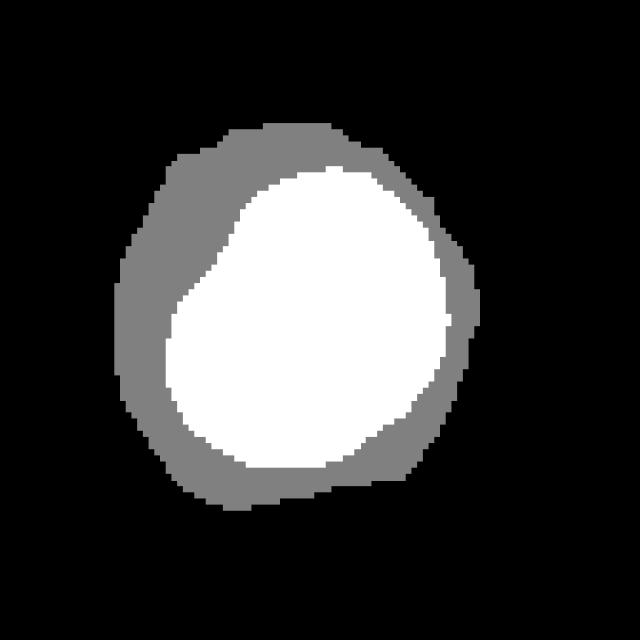WBC: (114, 111, 492, 523)
